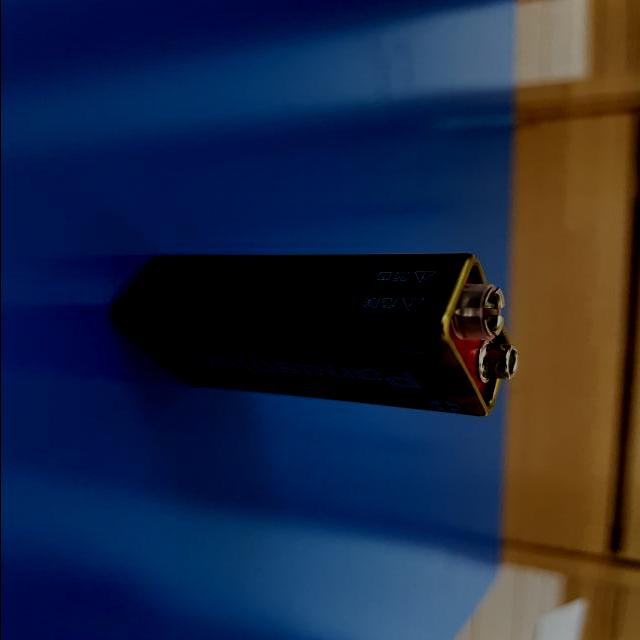9V: (112, 255, 518, 419)
